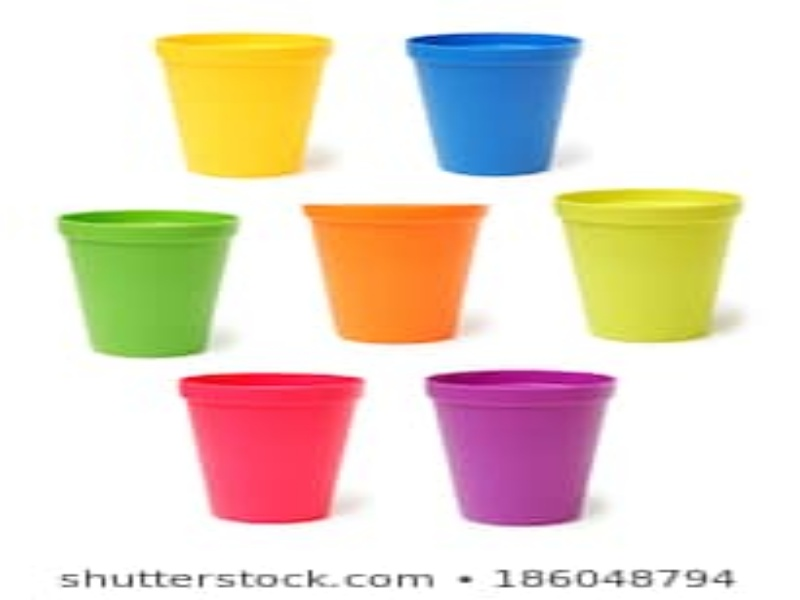plastic-cup: (423, 363, 620, 527), (553, 186, 748, 343), (300, 198, 491, 348), (179, 369, 361, 524), (153, 31, 336, 178), (58, 209, 241, 356), (402, 30, 585, 177)
